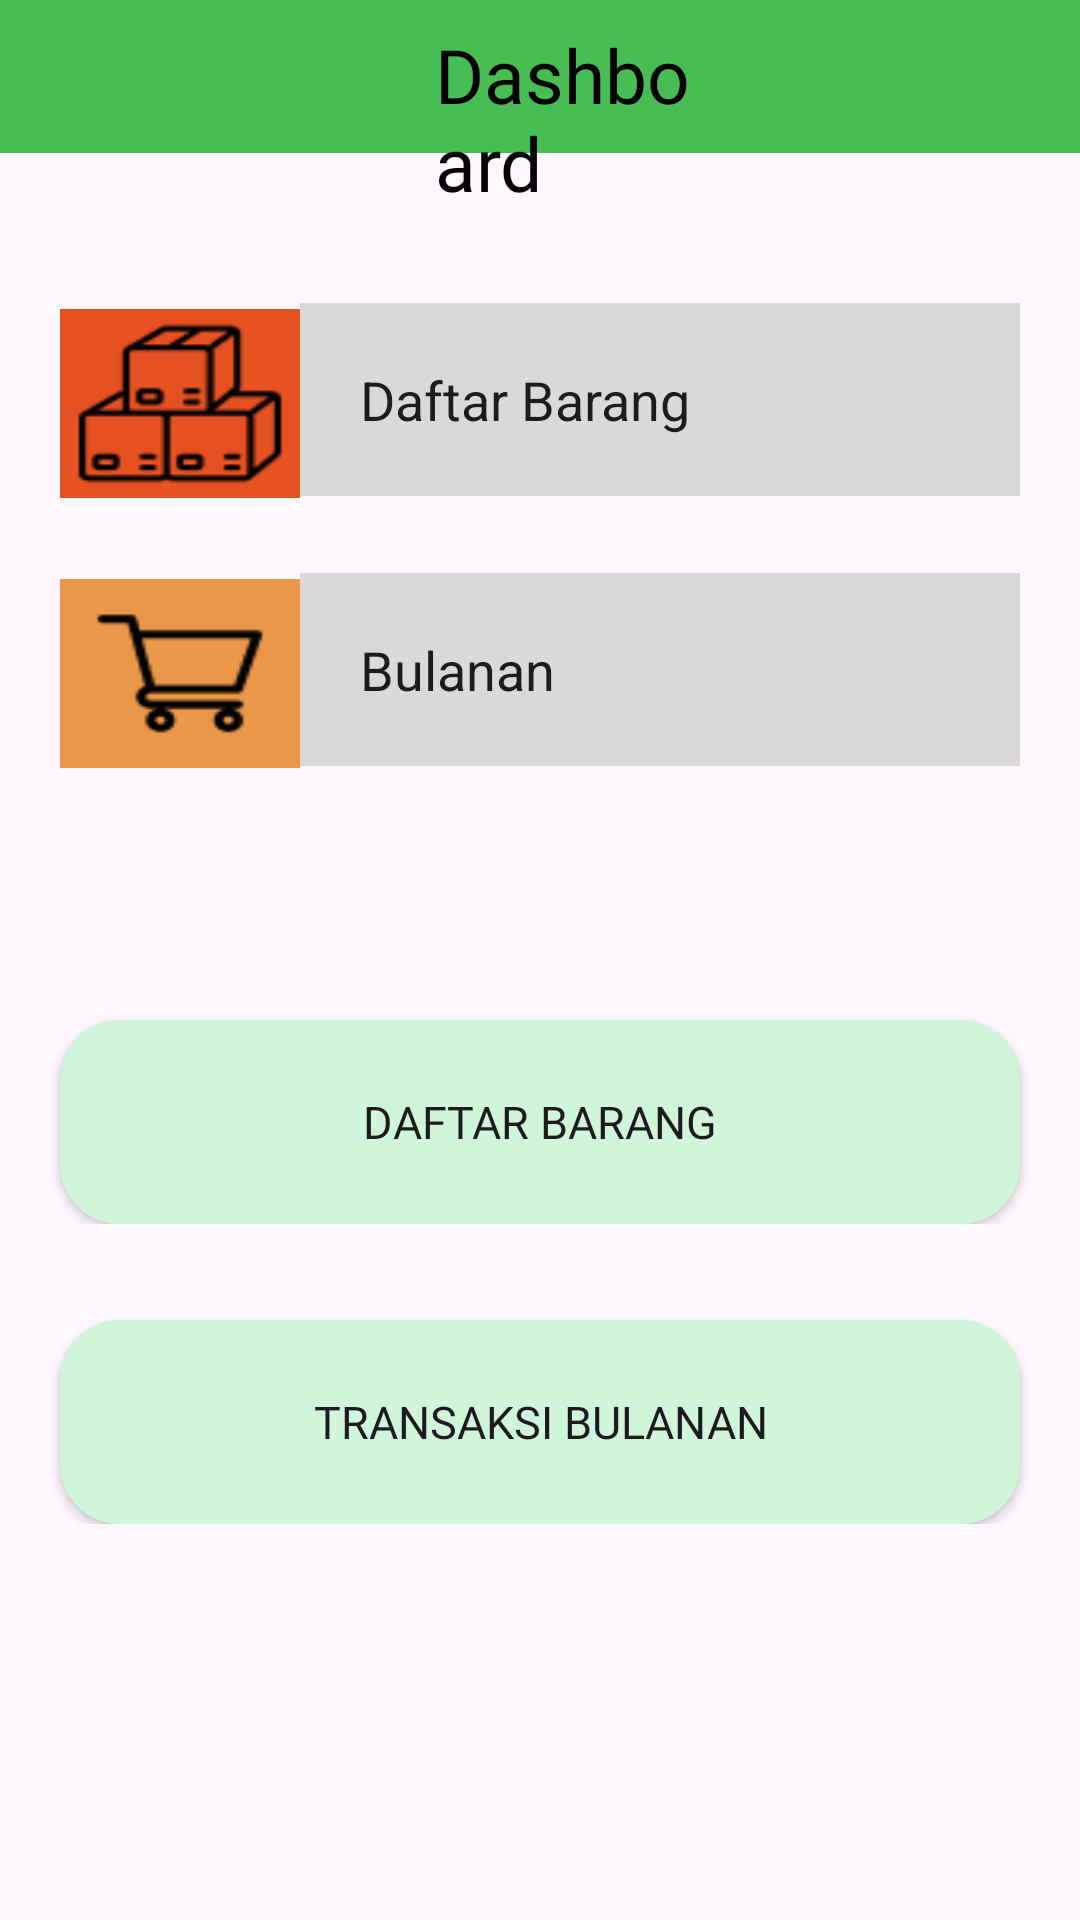

Screen size 1080w x 1920h. Icon name, then its center in pixels as (x=x, y=y):
kardusjadi: (x=180, y=403)
trolijadi: (x=180, y=673)
